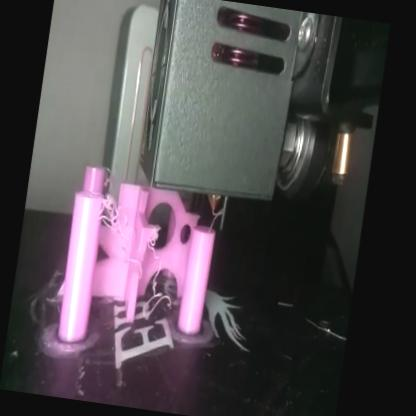fail: (142, 236, 169, 296), (99, 196, 131, 243)
